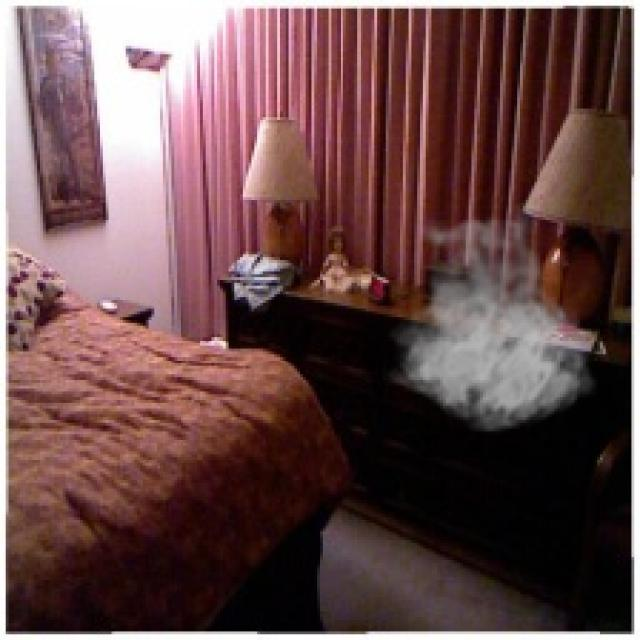smoke: (383, 200, 597, 434)
